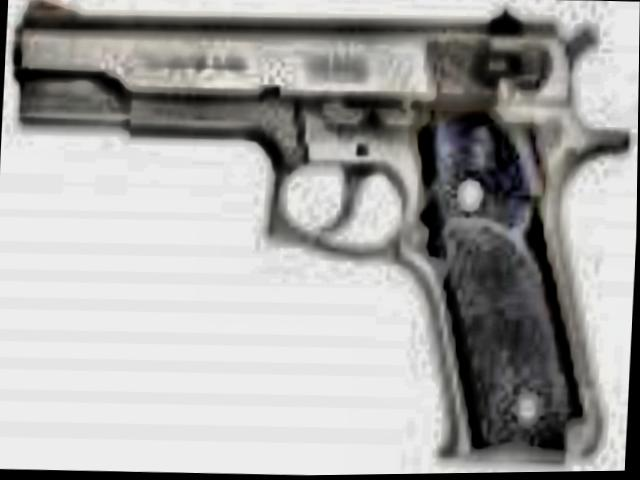pistol: (0, 0, 620, 466)
